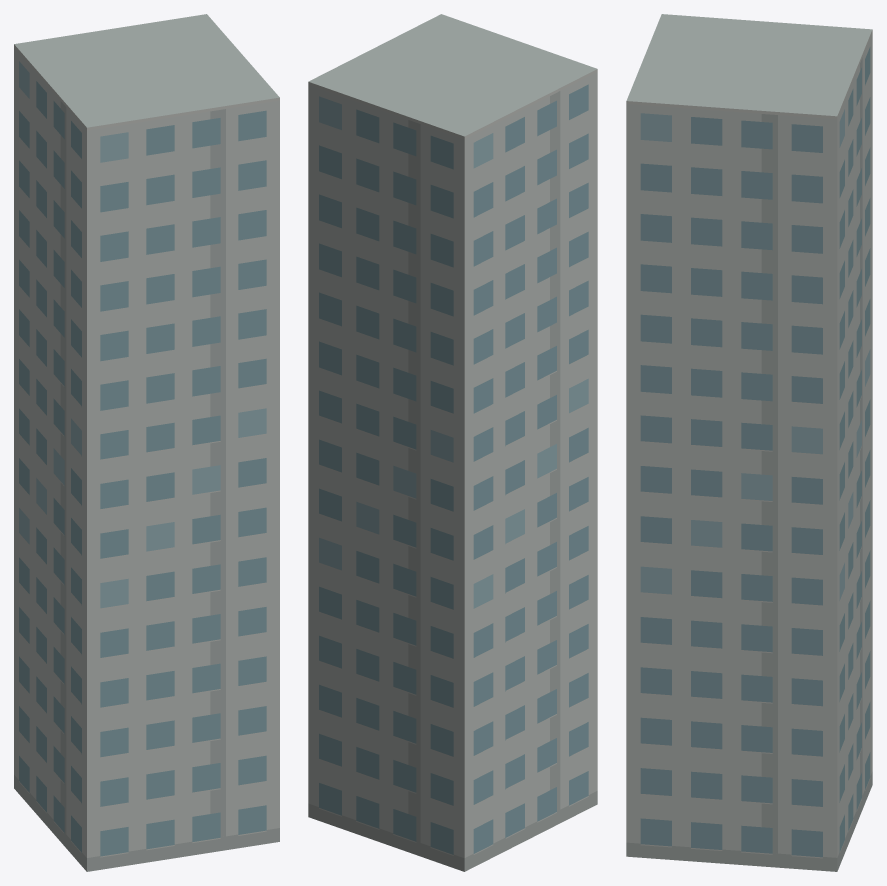
The model's file is residential-9b6a3913-025f-41cb-a241-9539adce39e0.glb.
3 renders of one model, left to right at view 1: azimuth 30°, elevation 25°; view 2: azimuth 150°, elevation 25°; view 3: azimuth 270°, elevation 25°, orthographic. The views are drawn at different scales.
Visible parts, largest first — view 1: residential-9b6a3913-025f-41cb-a241-9539adce39e0.tmp; view 2: residential-9b6a3913-025f-41cb-a241-9539adce39e0.tmp; view 3: residential-9b6a3913-025f-41cb-a241-9539adce39e0.tmp.
Part boxes in pixels (left/top/right/bottom): residential-9b6a3913-025f-41cb-a241-9539adce39e0.tmp: left=14, top=14, right=279, bottom=871; residential-9b6a3913-025f-41cb-a241-9539adce39e0.tmp: left=308, top=14, right=597, bottom=871; residential-9b6a3913-025f-41cb-a241-9539adce39e0.tmp: left=626, top=14, right=872, bottom=871.
Size of the model in its own units: 17.43 by 60 by 17.72.
